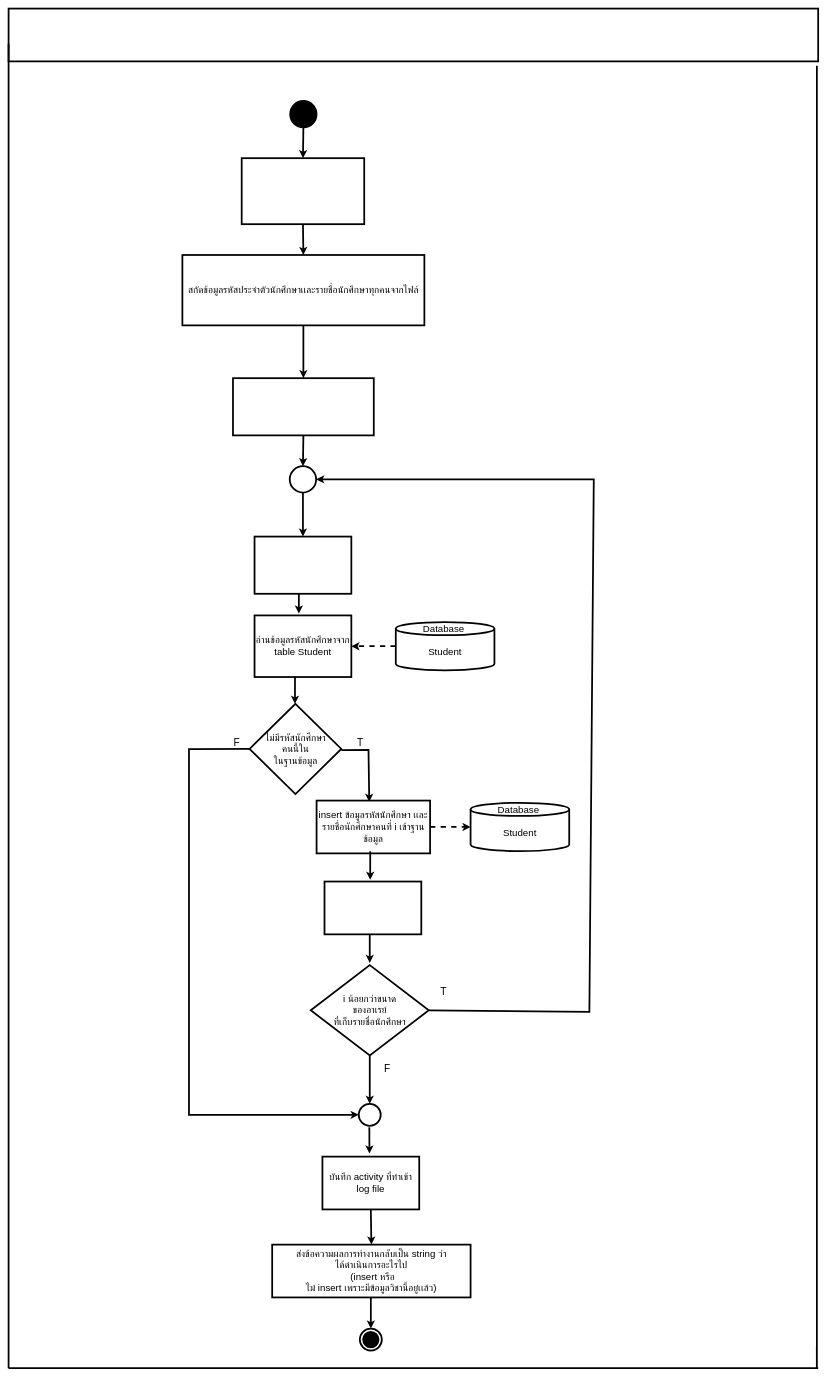
Some shapes in this 827 by 1377 pixel diagram are drawn without their labels. Here are the shapes that lost their labels. From the top down, the centre of each, then its label:
[413,34]: User
[303,191]: เปิดไฟล์ข้อมูลนักศึกษาใหม่
[303,406]: i = 0
[302,564]: สกัดข้อมูลรายชื่อนักศึกษาคนที่ i จากไฟล์
[372,907]: i = i+1
